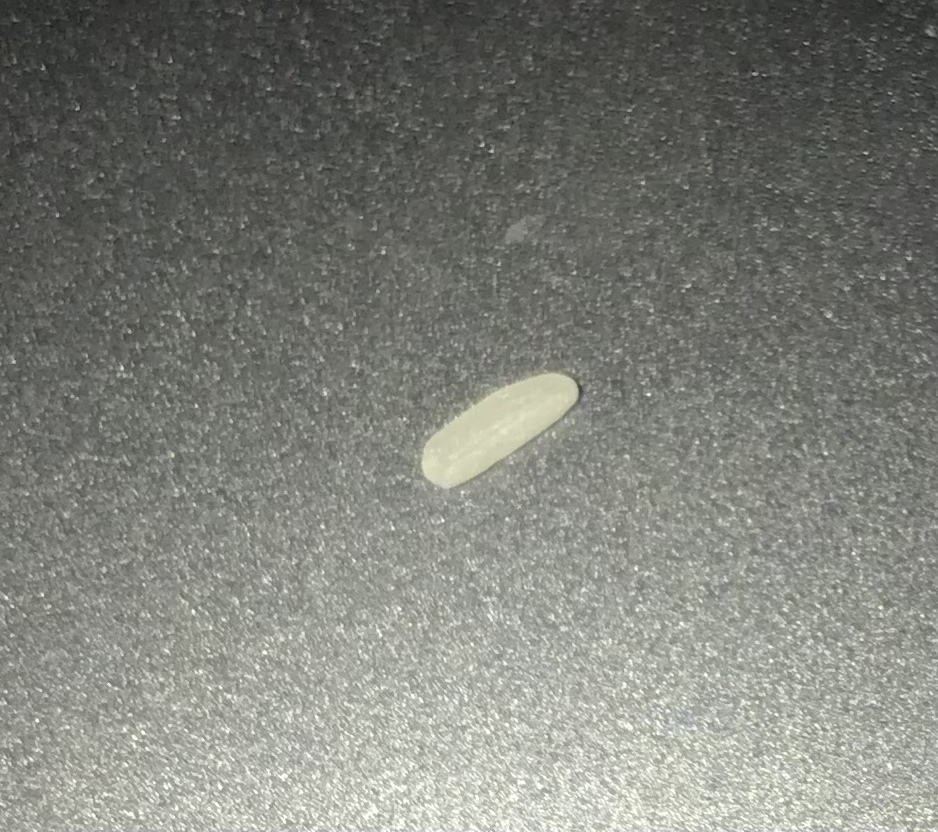Gao Tam Thom: (413, 348, 591, 496)
